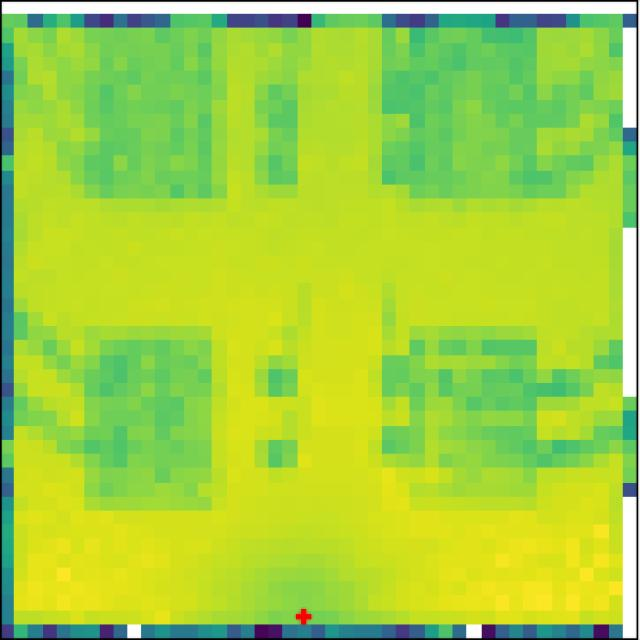Concrete: (388, 36, 564, 200)
Glass: (78, 31, 228, 200)
Metal: (408, 324, 541, 498)
Wood: (85, 328, 224, 511)
